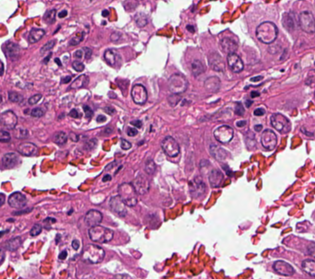nucleus: (256, 21, 277, 43), (88, 224, 113, 242), (118, 183, 137, 206), (82, 244, 104, 263), (168, 73, 187, 93), (161, 136, 179, 157), (213, 125, 233, 143), (131, 174, 149, 194), (109, 195, 126, 216), (271, 113, 289, 132), (260, 129, 276, 150), (189, 176, 205, 197), (226, 53, 243, 72), (131, 84, 147, 104), (273, 260, 294, 275), (84, 209, 102, 226), (208, 52, 224, 71), (68, 74, 88, 89), (220, 37, 237, 53), (104, 49, 120, 66), (210, 144, 227, 160), (204, 76, 220, 92), (208, 169, 223, 186), (190, 59, 204, 76), (28, 28, 44, 42), (301, 259, 314, 276), (69, 32, 83, 45), (53, 131, 67, 144), (40, 40, 55, 52), (144, 159, 155, 174), (30, 223, 41, 236), (30, 107, 44, 117), (168, 94, 180, 105), (28, 94, 41, 104), (234, 102, 244, 115), (84, 139, 96, 149), (83, 105, 92, 118), (72, 61, 83, 71), (120, 139, 131, 149), (110, 32, 120, 41), (73, 49, 83, 58), (104, 105, 114, 114), (127, 127, 137, 136), (83, 47, 91, 58), (250, 75, 262, 82), (69, 132, 78, 141), (254, 107, 264, 115), (69, 109, 79, 117), (71, 239, 79, 249), (61, 76, 71, 83), (131, 120, 141, 127), (308, 242, 313, 256), (96, 115, 105, 122), (59, 250, 66, 259), (43, 54, 50, 62), (254, 124, 262, 131), (102, 174, 110, 181), (250, 91, 259, 97), (236, 120, 245, 126), (245, 100, 252, 107), (55, 58, 61, 65), (104, 127, 111, 133), (56, 235, 59, 242)
